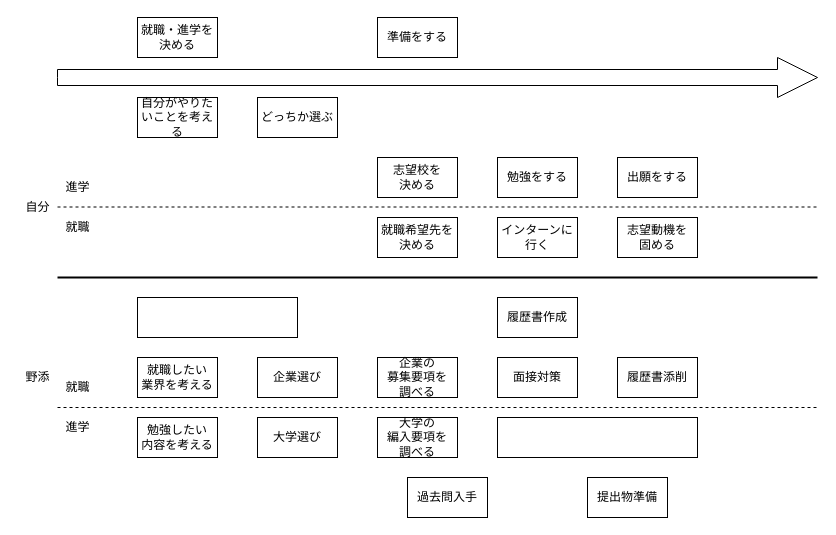
Image size: 836x535. Some labels were removed from this diagram. The centre of each missing label's shape, as x and y in pixels:
先生や親の意見を 聞く: the point at 217,317
編入対策 (参考書、過去問): the point at 597,437
